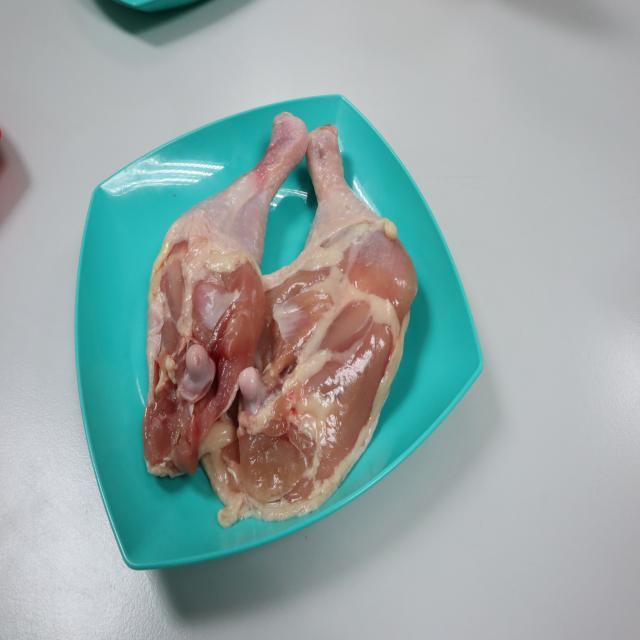quater: (227, 133, 423, 525), (133, 100, 299, 451)
